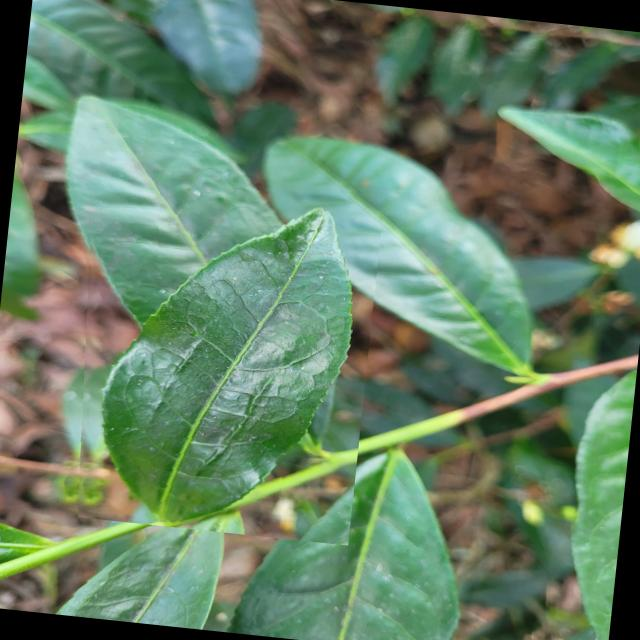Category D(7+ days, Not for Tea): (57, 162, 384, 546)
